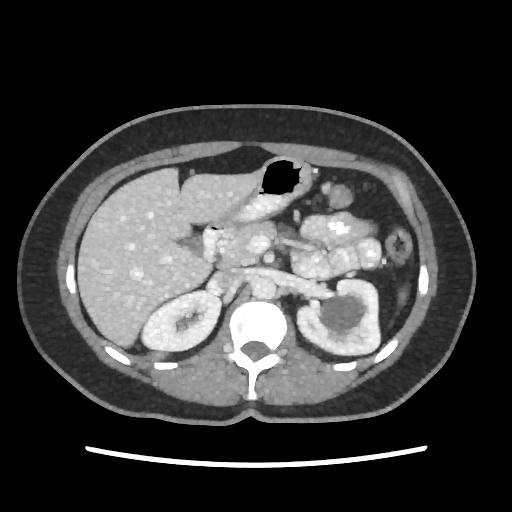Lesion: (316, 293, 372, 339)
